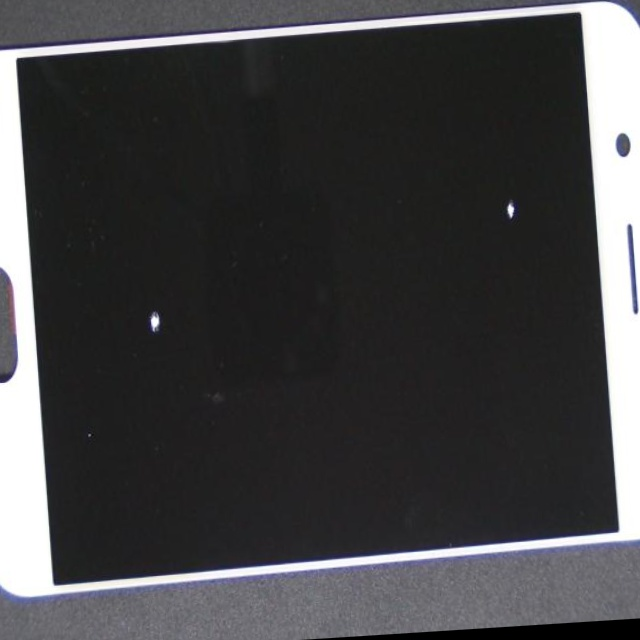stain: (254, 41, 640, 312), (24, 164, 250, 580)
